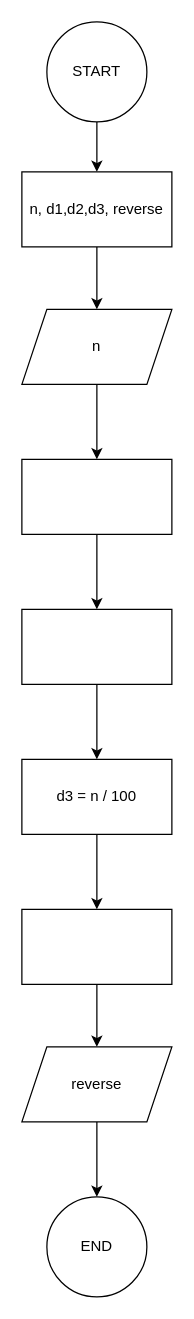
The diagram is 194 pixels wide and 1319 high, and some of its shapes have lost their labels. The centre of each missing label's shape, as x and y in pixels:
d1 = n % 10: pixel 96 496
d2 = (n /10) % 10: pixel 96 646
reverse = d1 * 100 + d2*10+d3: pixel 96 946
